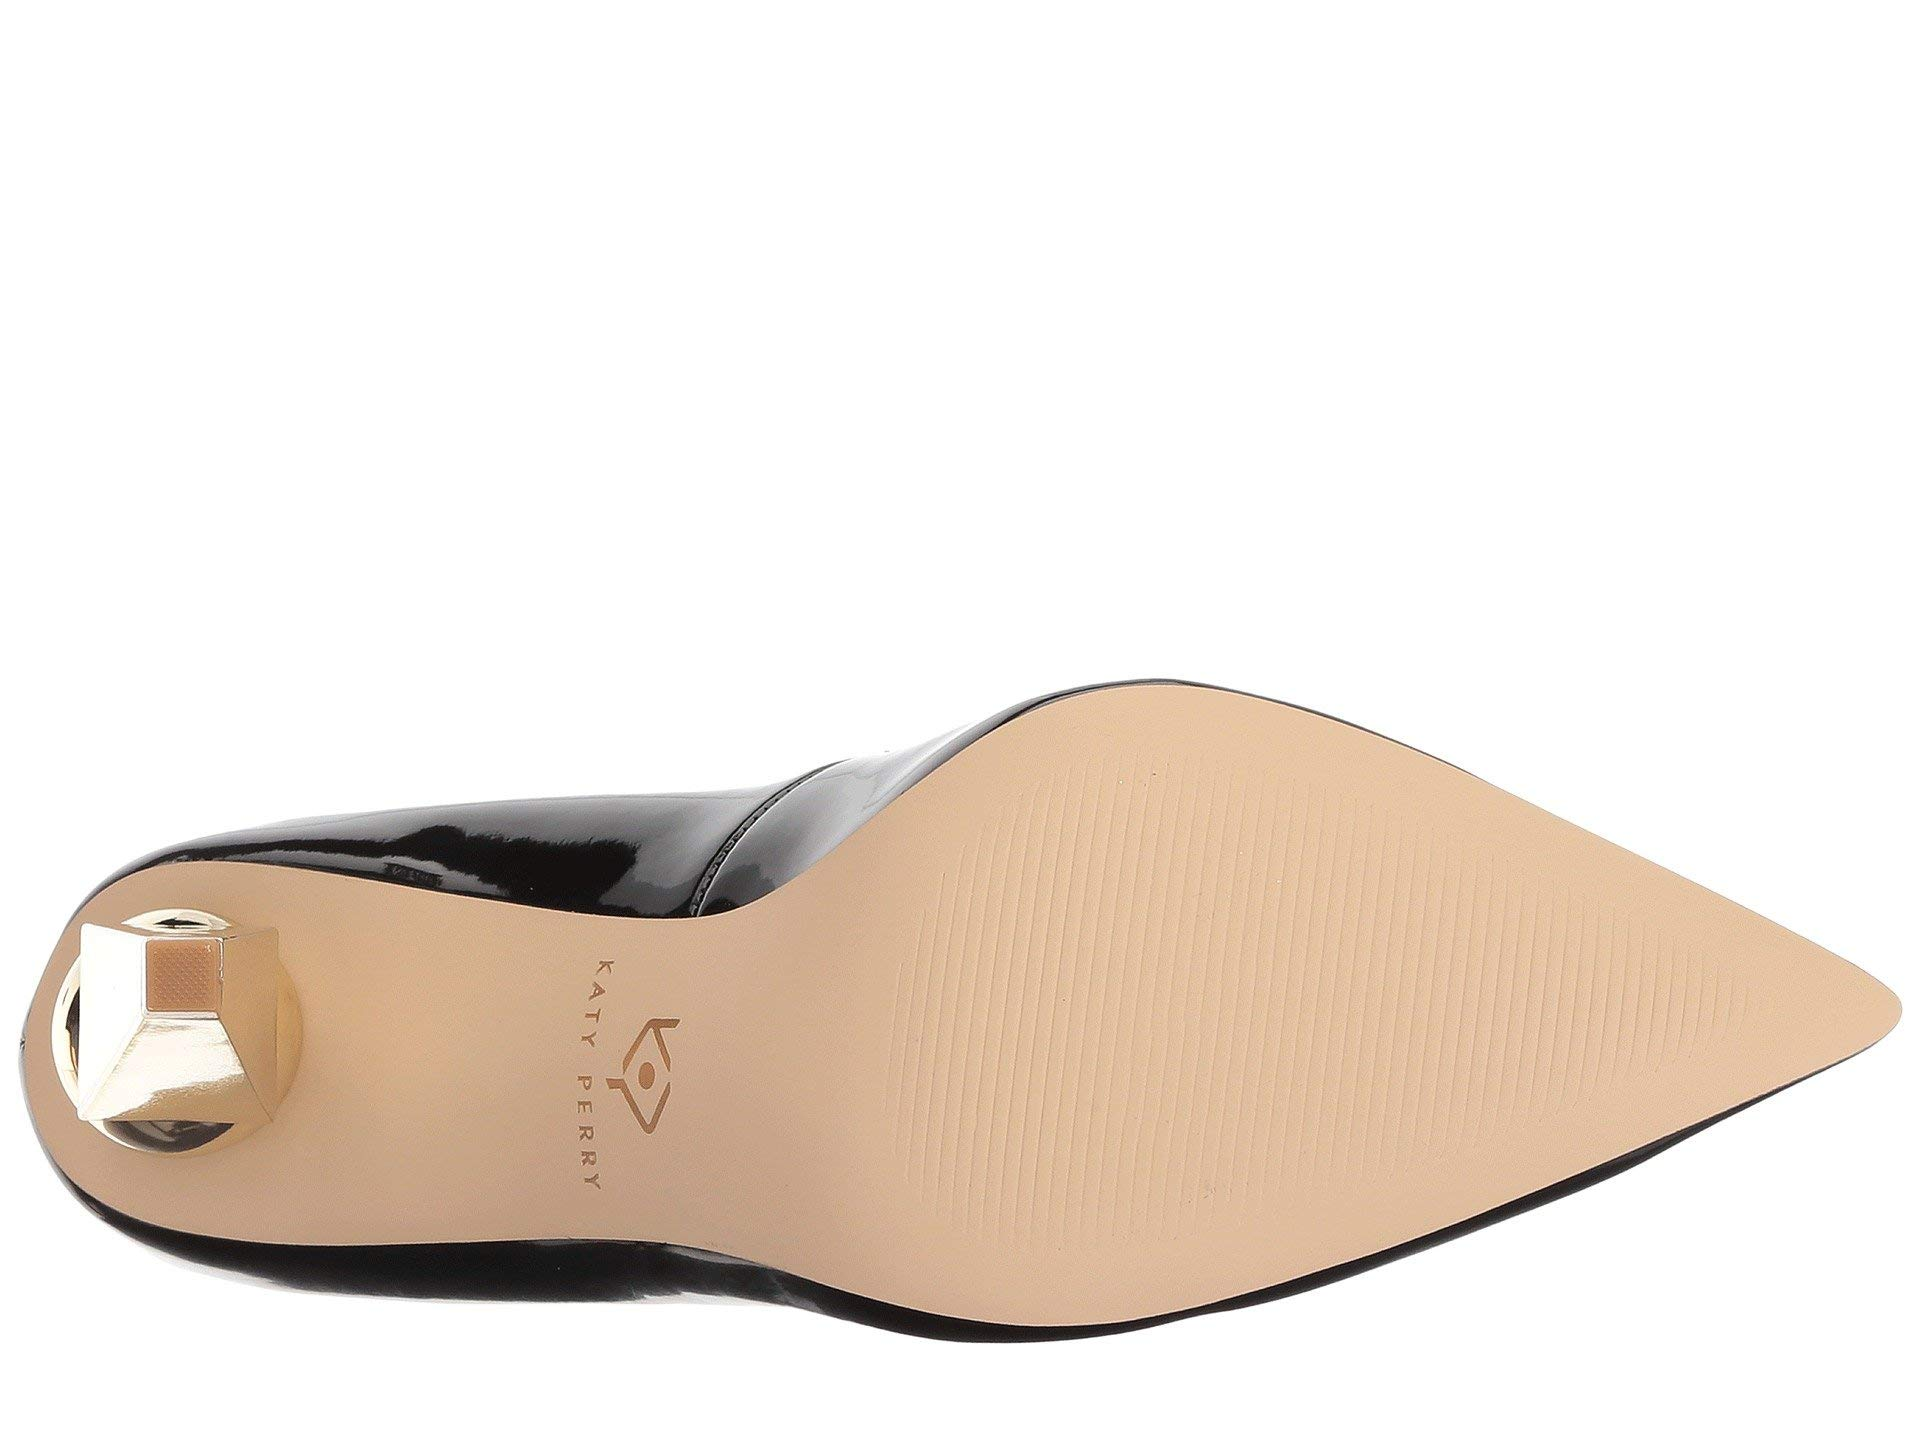exclude: (302, 743, 785, 1330)
line: (980, 812, 1528, 1141)
quad: (132, 938, 237, 1035)
